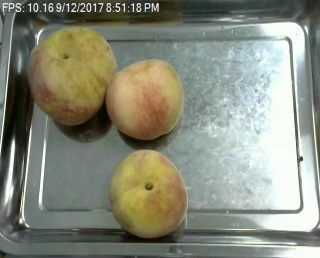Peach: (27, 25, 114, 125), (108, 150, 188, 238), (106, 58, 185, 138)
